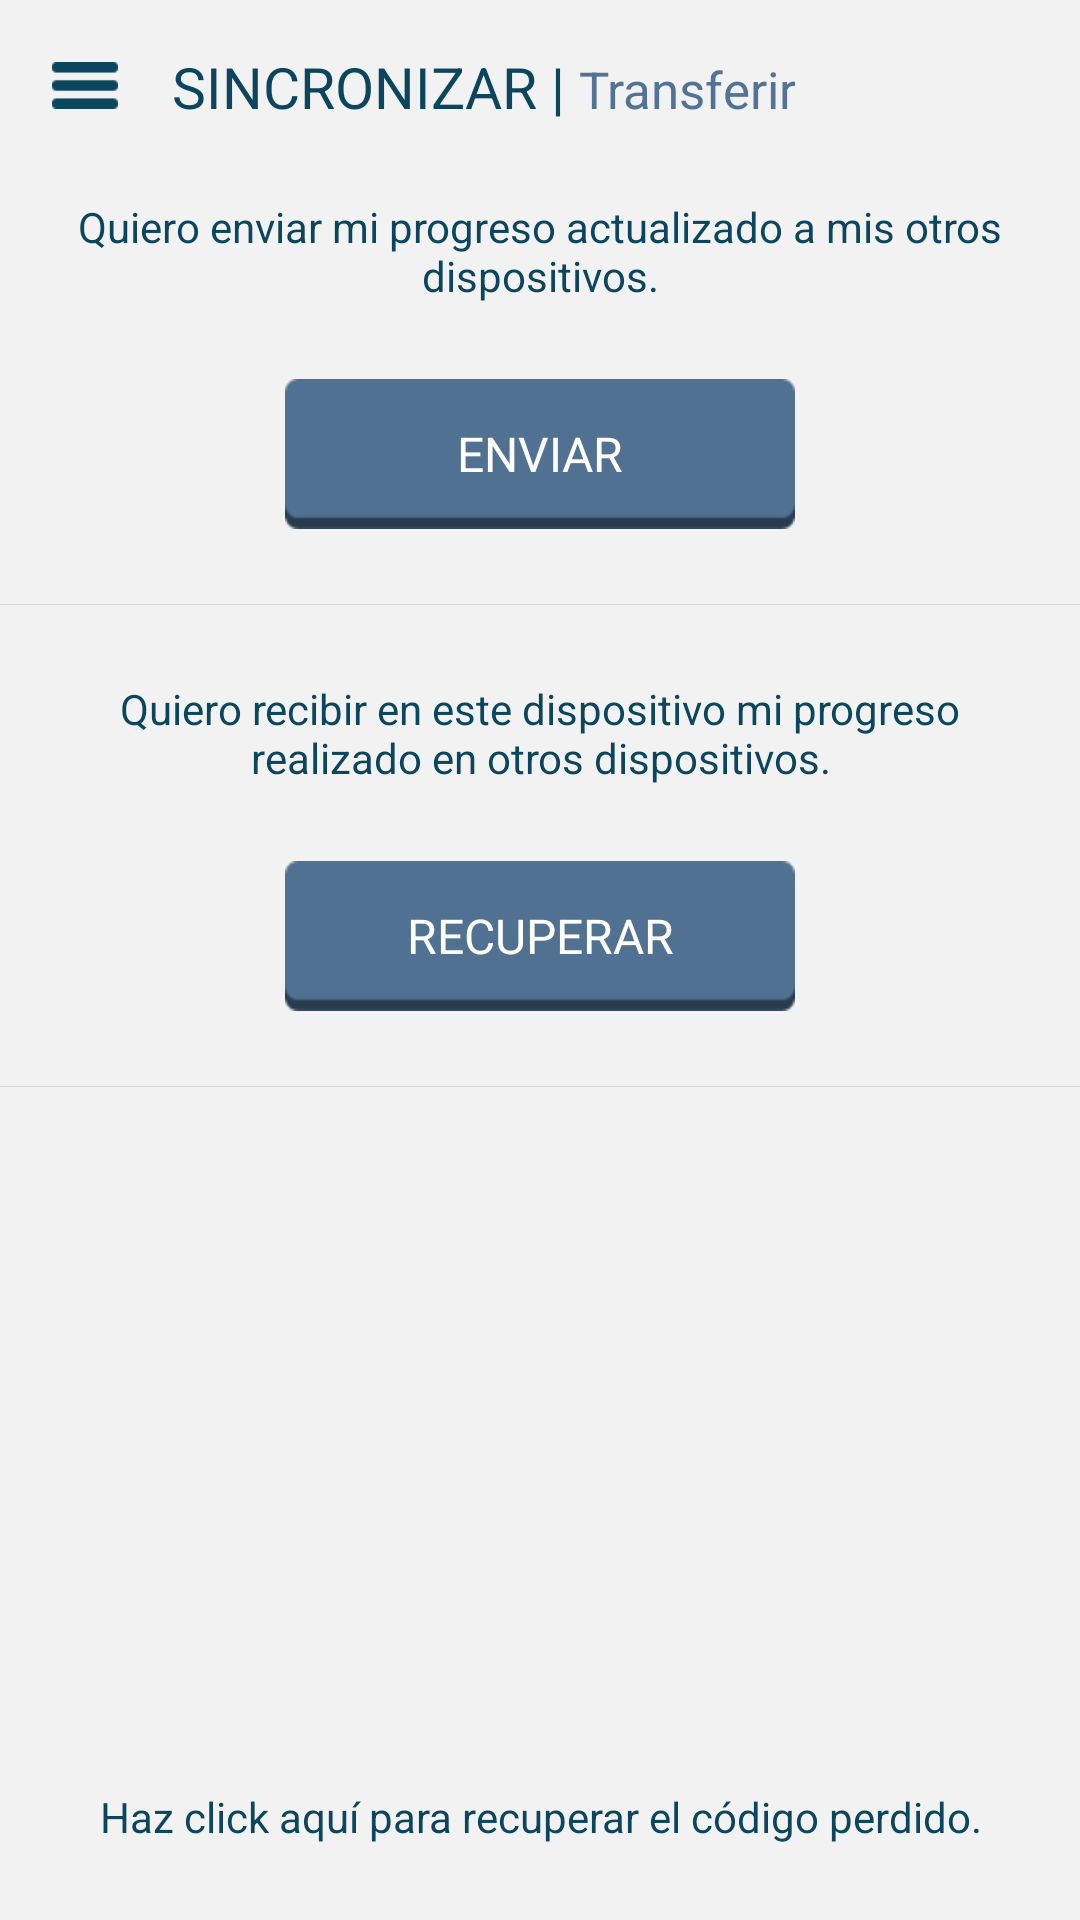

Icon click points for this 1080 x 1920 phone screenshot, format [x,y]:
hamburguesa: [85,85]
